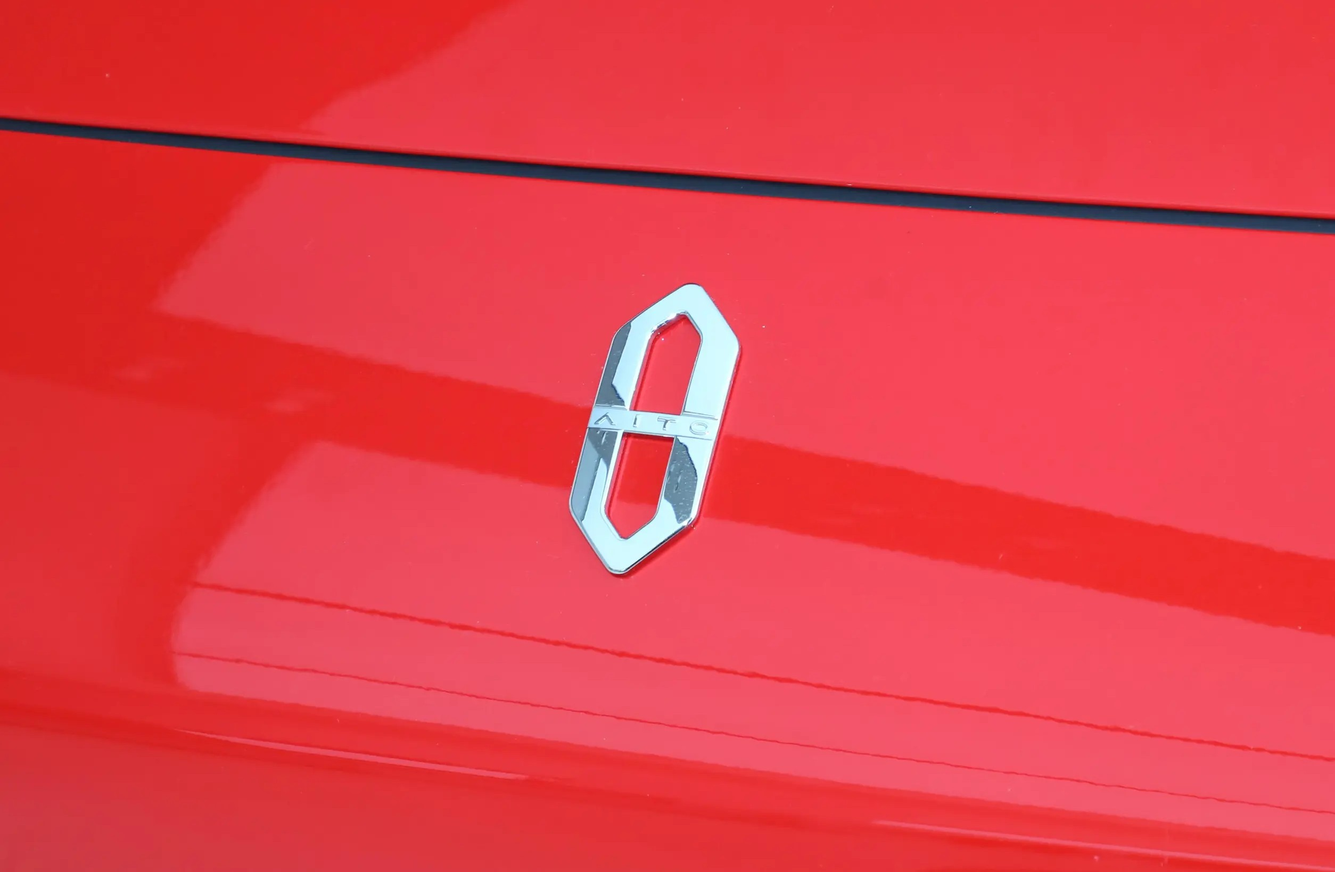AITO: (568, 284, 739, 576)
